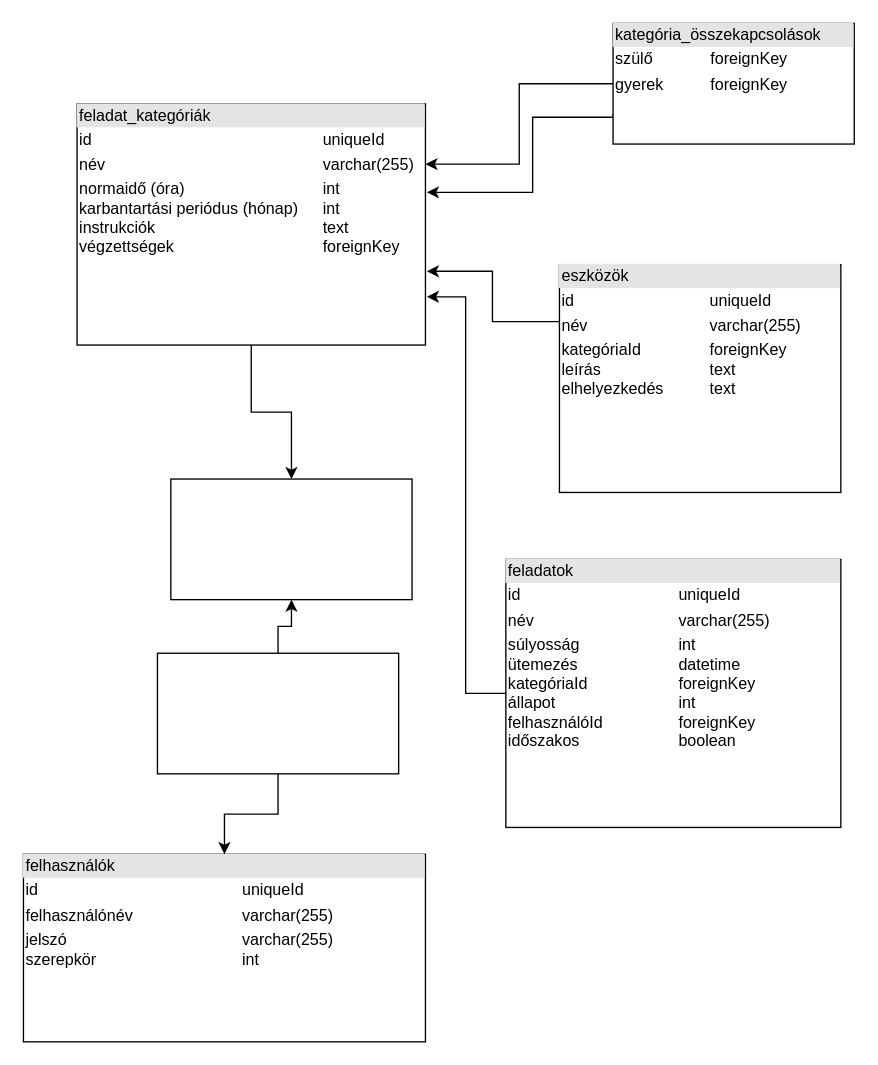
This 878x1065 diagram has some shape labels left out. The shapes that lost their labels are listed below. From the top down, each one's box as (x1, y1, x2, y2) in pixels, then its label:
(170, 478, 412, 600): végzettségek id uniqueId név varchar(255)
(156, 652, 399, 774): karbantartó_végzettség felhasználóId foreignKey végzettségId foreignKey
